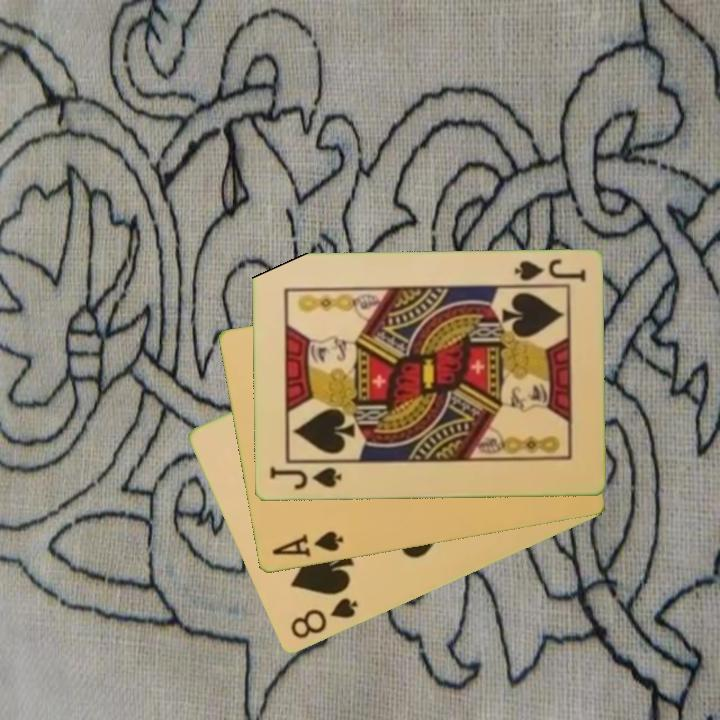8s: (286, 594, 361, 643)
As: (268, 528, 346, 561)
Js: (266, 463, 344, 493), (510, 256, 588, 285)
